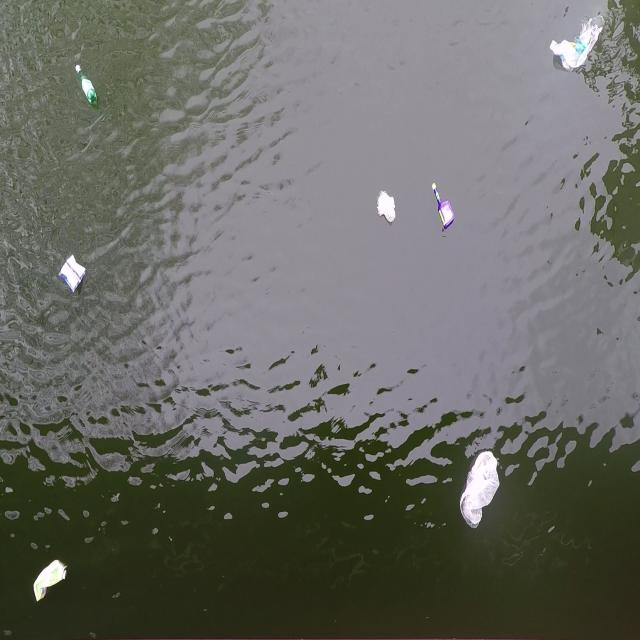Autre plastique: (55, 249, 92, 301)
Bouteille plastique: (428, 173, 459, 234), (69, 61, 102, 110)
Sac plastique: (456, 440, 506, 534), (548, 8, 606, 78), (372, 184, 401, 230)
